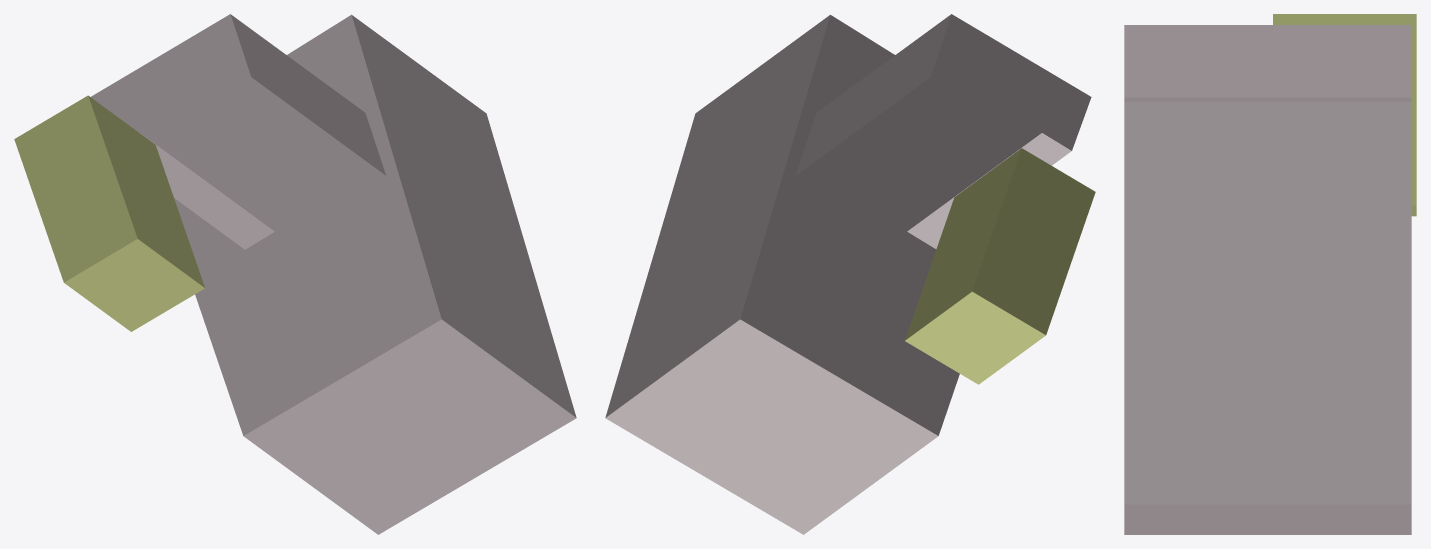
The picture shows the model from 3 angles, left to right: view 1: azimuth 30°, elevation 25°; view 2: azimuth 150°, elevation 25°; view 3: azimuth 270°, elevation 25°; orthographic projection. The views are drawn at different scales.
Parts seen in each view (by area): view 1: 0_1_0_2_0_0_3_3_1; view 2: 0_1_0_2_0_0_3_3_1; view 3: 0_1_0_2_0_0_3_3_1.
Part boxes in pixels (x1,y1,x2,y2): 0_1_0_2_0_0_3_3_1: (14, 14, 576, 534); 0_1_0_2_0_0_3_3_1: (605, 14, 1095, 534); 0_1_0_2_0_0_3_3_1: (1124, 14, 1416, 534).
Bounding box in the file's own units: 21.82 × 20.85 × 12.2.
